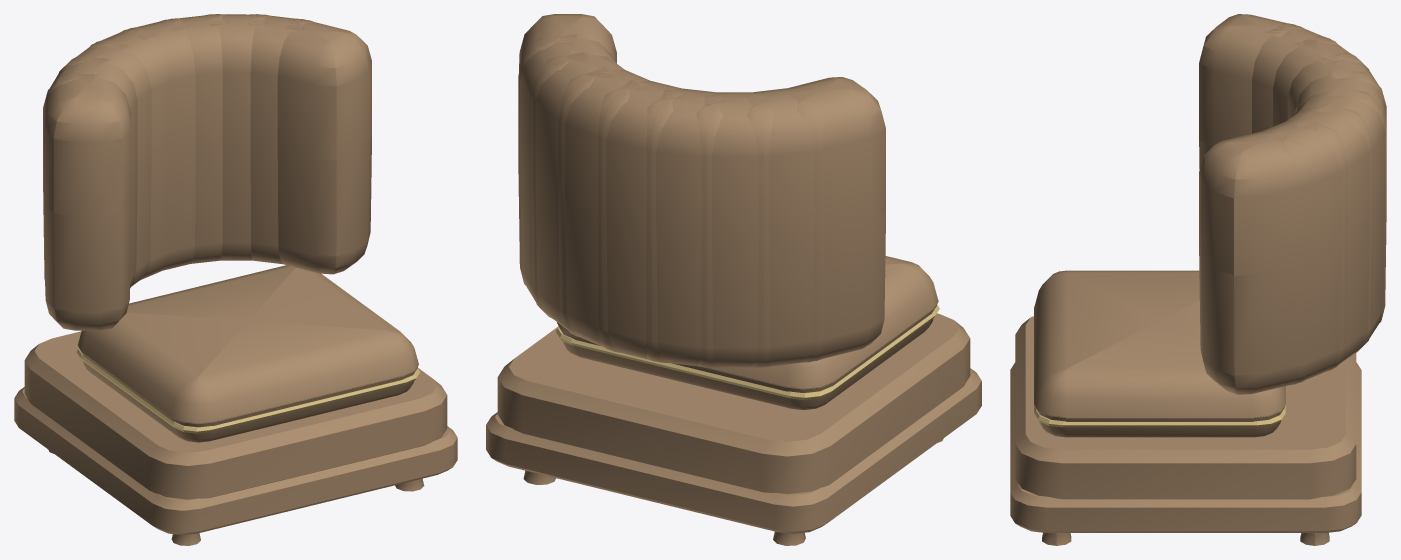
File: bar-pub-and-brewery-taproom-tub-armchair-tan-1bf77d1d__18392.glb
3 views of the same model, side by side, from view 1: azimuth 30°, elevation 25°; view 2: azimuth 150°, elevation 25°; view 3: azimuth 270°, elevation 25° (orthographic). The views are drawn at different scales.
Parts seen in each view (by area): view 1: tub-armchair-tan; view 2: tub-armchair-tan; view 3: tub-armchair-tan.
Boxes of the visible parts, x1,y1,x2,y2 form: tub-armchair-tan: (14, 14, 457, 545); tub-armchair-tan: (486, 14, 981, 545); tub-armchair-tan: (1010, 14, 1386, 545).
Bounding box in the file's own units: 0.7423 × 0.852 × 0.7289.
